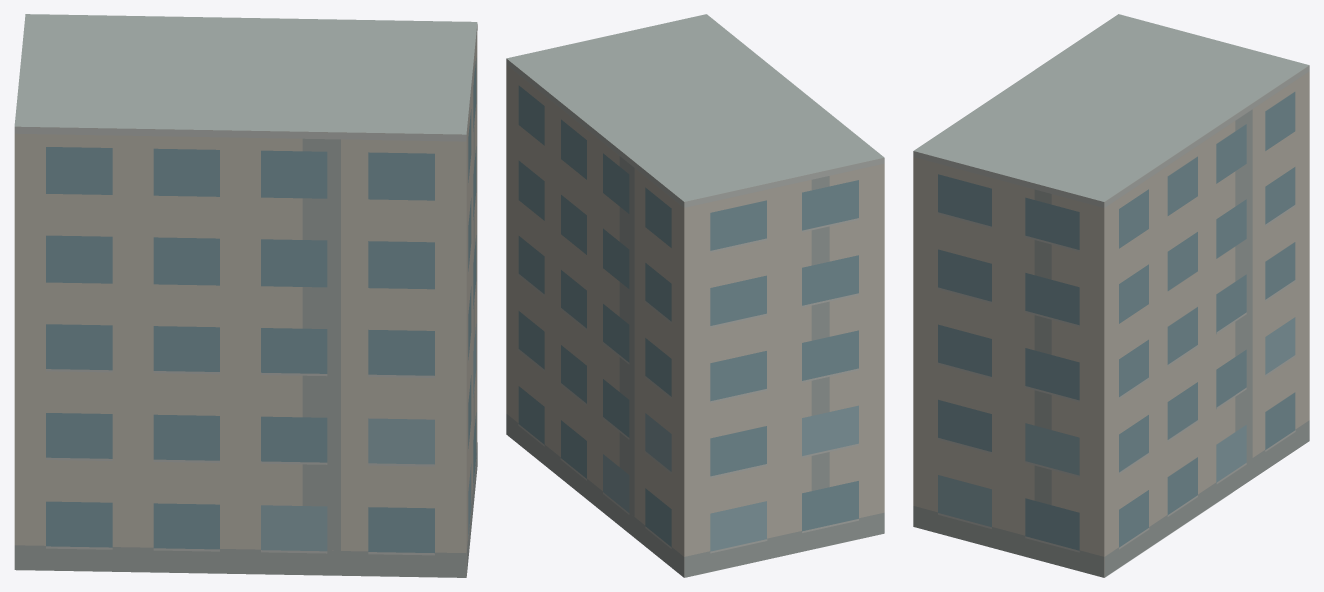
Rendered from residential-5173b86e-f457-4c94-a348-d6ed0e1f32f7.glb.
The picture shows the model from 3 angles, left to right: view 1: azimuth 30°, elevation 25°; view 2: azimuth 150°, elevation 25°; view 3: azimuth 270°, elevation 25°; orthographic projection. The views are drawn at different scales.
Visible parts, largest first — view 1: residential-5173b86e-f457-4c94-a348-d6ed0e1f32f7.tmp; view 2: residential-5173b86e-f457-4c94-a348-d6ed0e1f32f7.tmp; view 3: residential-5173b86e-f457-4c94-a348-d6ed0e1f32f7.tmp.
Part boxes in pixels (left/top/right/bottom): residential-5173b86e-f457-4c94-a348-d6ed0e1f32f7.tmp: left=14, top=14, right=477, bottom=577; residential-5173b86e-f457-4c94-a348-d6ed0e1f32f7.tmp: left=506, top=14, right=884, bottom=577; residential-5173b86e-f457-4c94-a348-d6ed0e1f32f7.tmp: left=913, top=14, right=1309, bottom=577.
Bounding box in the file's own units: 16.37 × 15.25 × 14.58.
